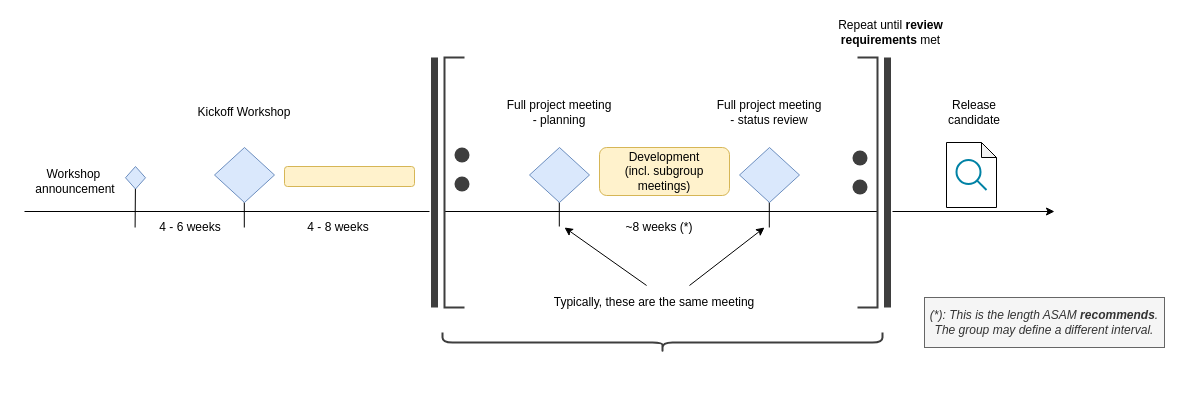
This 1182x404 diagram has some shape labels left out. Each missing label, with the centre of its shape:
"Development interval" belongs at [662,342].
"Project ramp-up" belongs at [349,176].
